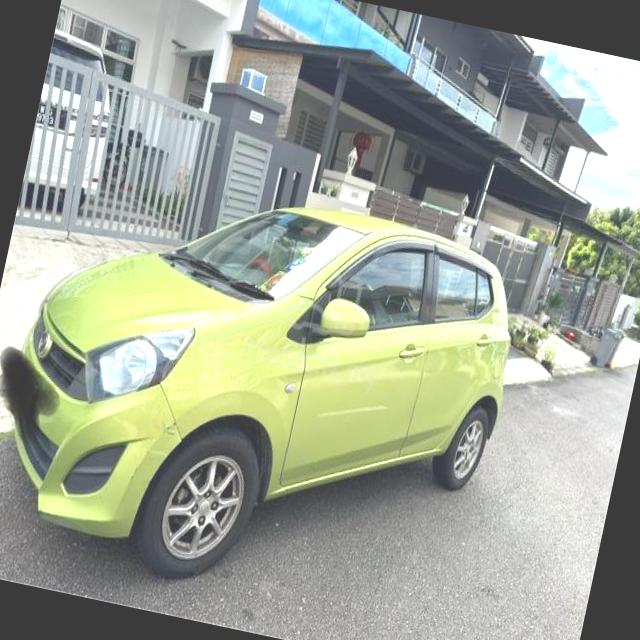PeroduaAxia: (0, 142, 535, 638)
